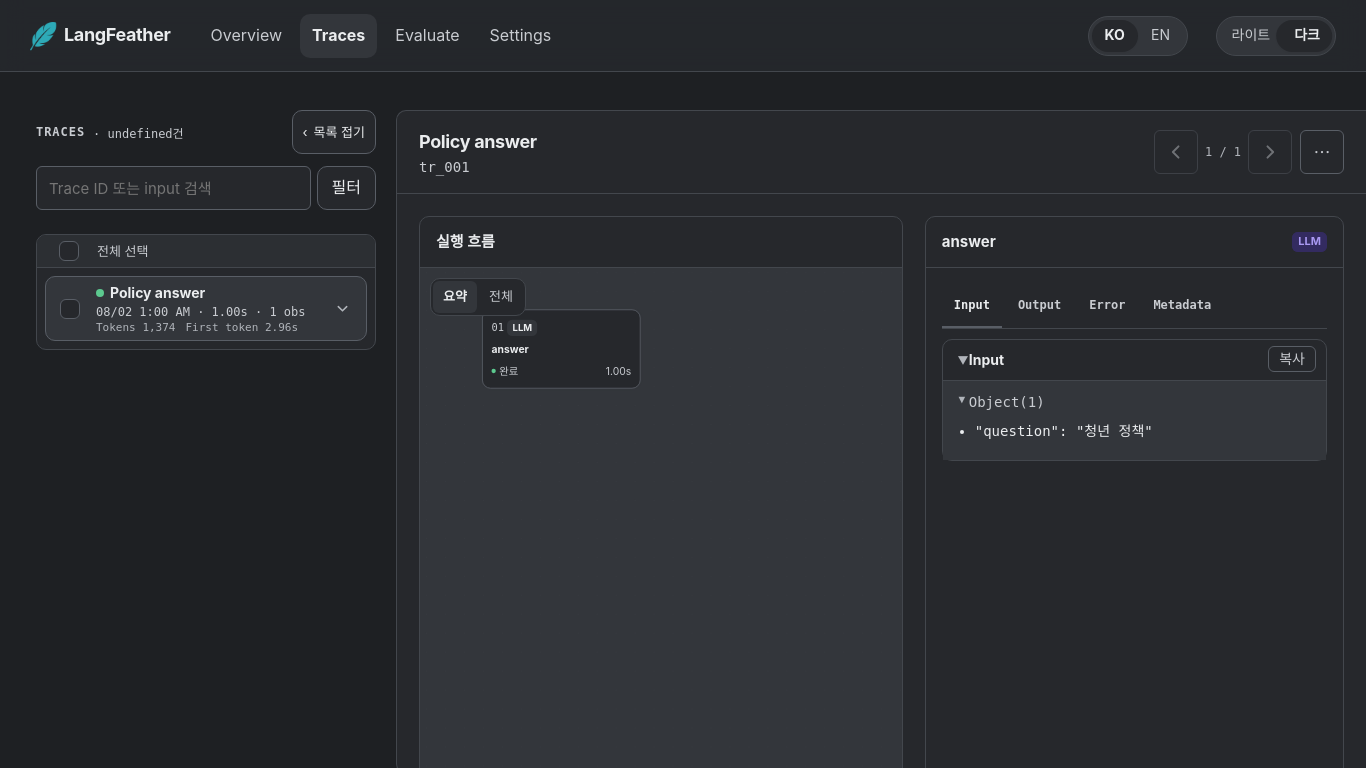
Test case: V2 presentation › Traces 3분할 › 목록을 접으면 다시 펼 버튼만 남는다
Check: the element named "Trace 목록" is shown, box [36,234,376,350]
Click the button "‹ 목록 접기" at point(334, 132), box [292,110,376,154]
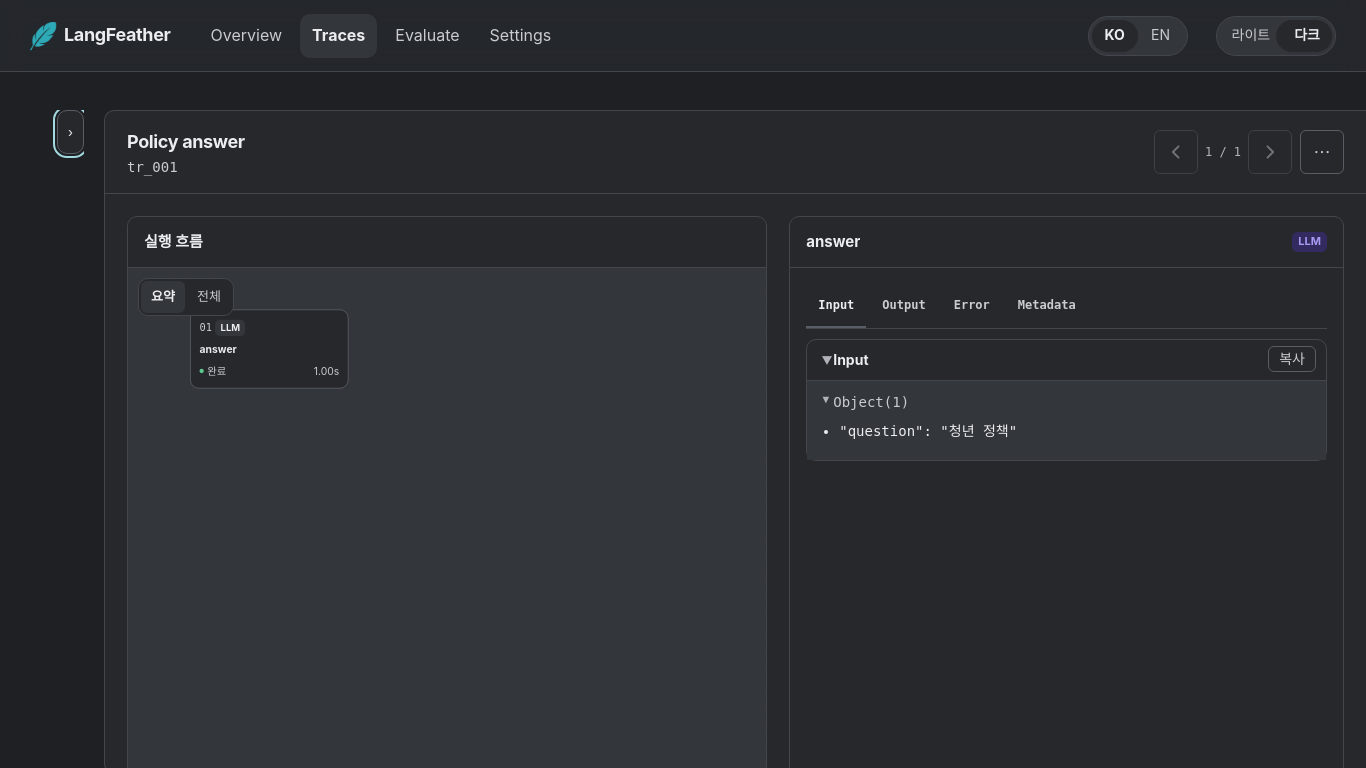
Check: the button named "목록 펼치기" is collapsed
Click the button named "목록 펼치기" at point(70, 132), box [57,110,84,154]
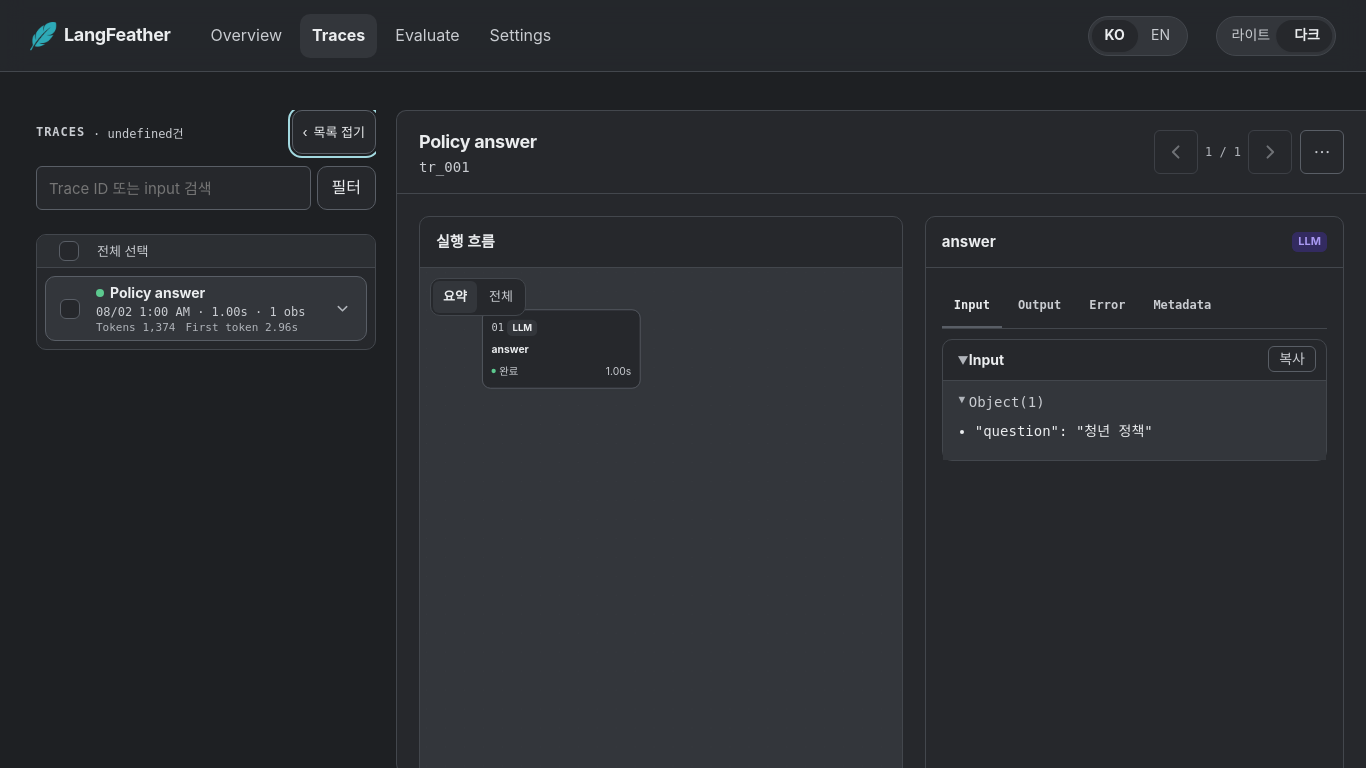
Check: the button "‹ 목록 접기" is expanded, box [292,110,376,154]
